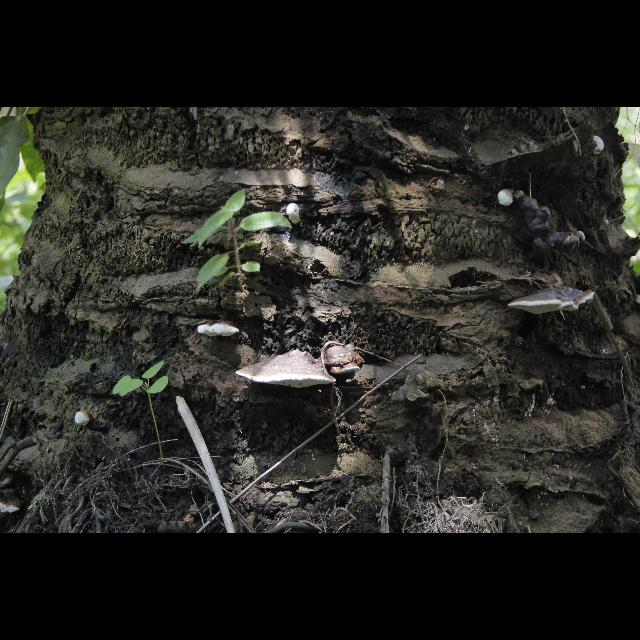ganoderma: (515, 191, 578, 261), (236, 350, 338, 390), (509, 286, 596, 316), (322, 345, 367, 376), (199, 322, 242, 339), (1, 489, 23, 515)
primordium: (288, 204, 305, 225), (76, 412, 95, 429), (498, 189, 514, 207), (594, 136, 606, 156), (578, 232, 586, 245)
